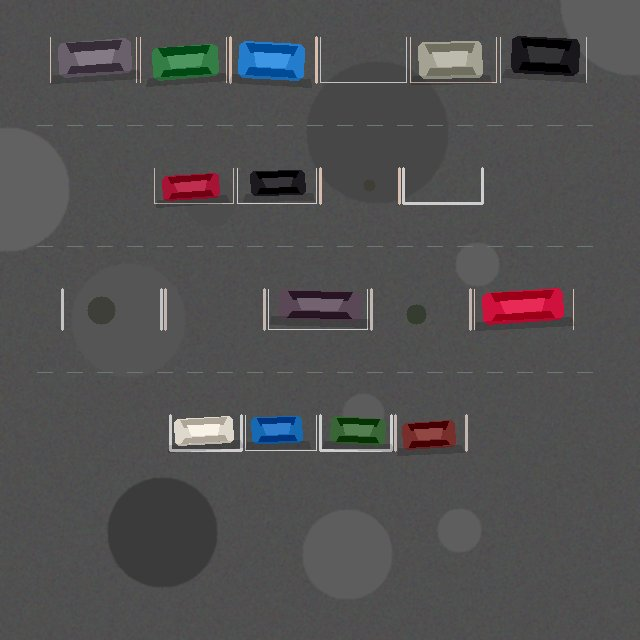space-empty: (62, 289, 161, 329), (165, 289, 264, 329), (371, 289, 470, 329), (320, 37, 406, 82), (320, 168, 399, 203), (403, 168, 482, 203)
space-occupied: (268, 289, 367, 329), (474, 289, 573, 329), (50, 37, 136, 82), (140, 37, 226, 82), (230, 37, 316, 82), (410, 37, 496, 82), (500, 37, 586, 82), (154, 168, 233, 203), (237, 168, 316, 203), (170, 415, 241, 450), (245, 415, 316, 450), (320, 415, 391, 450), (395, 415, 466, 450)
